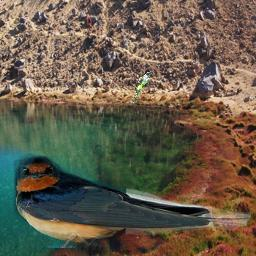Cuckoo: (133, 72, 153, 103)
Swallow: (9, 151, 251, 248)
